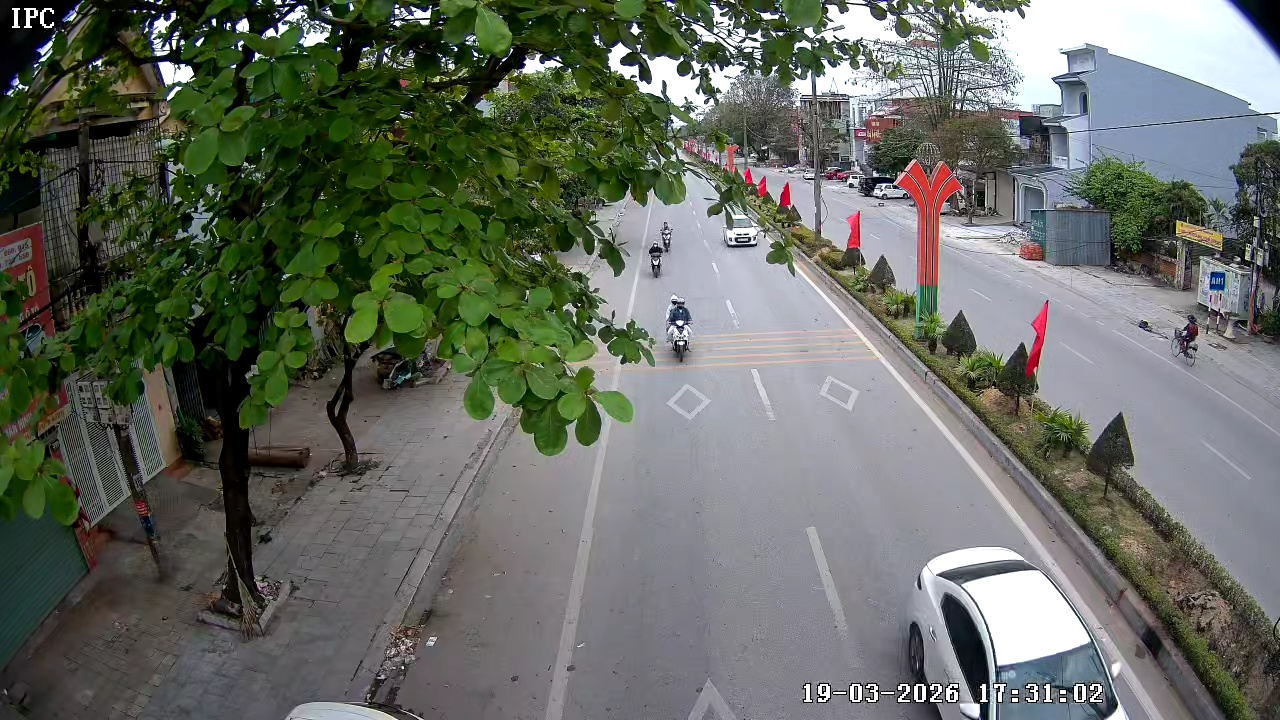bike: (1173, 314, 1201, 367)
car: (899, 544, 1127, 719), (722, 215, 760, 248)
motorbike: (664, 292, 695, 362), (647, 236, 667, 279), (657, 219, 674, 254)
